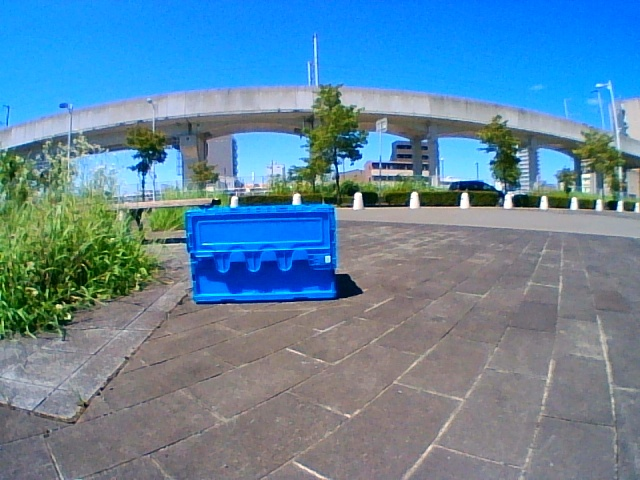blue_box: (193, 209, 336, 299)
